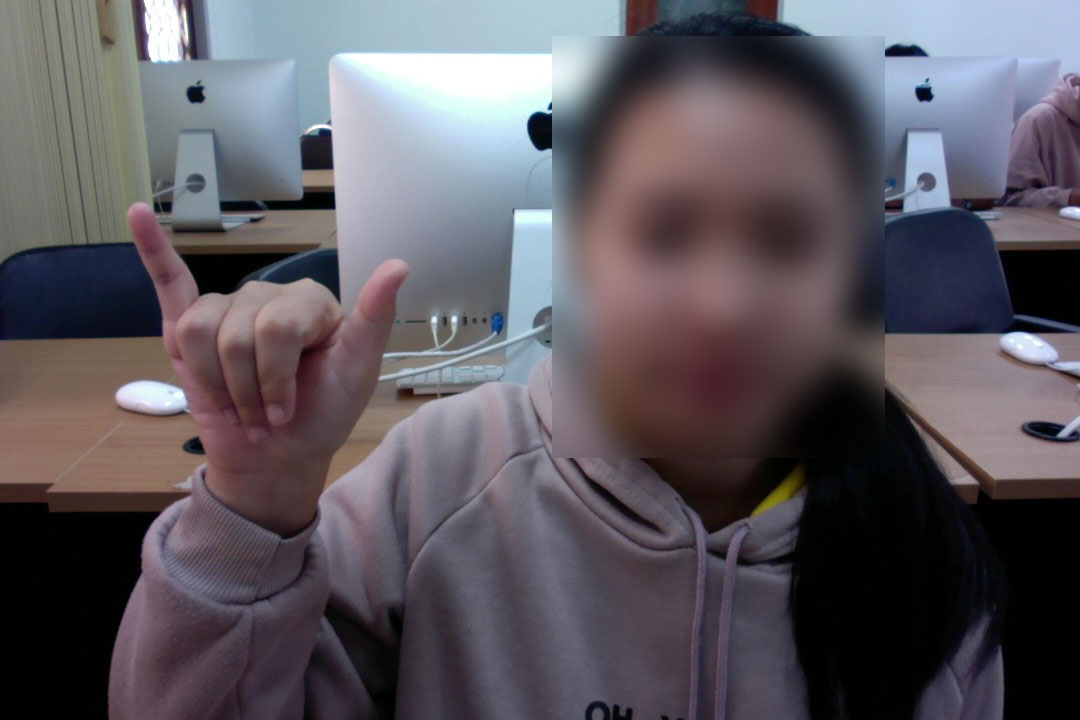yor: (124, 193, 432, 502)
